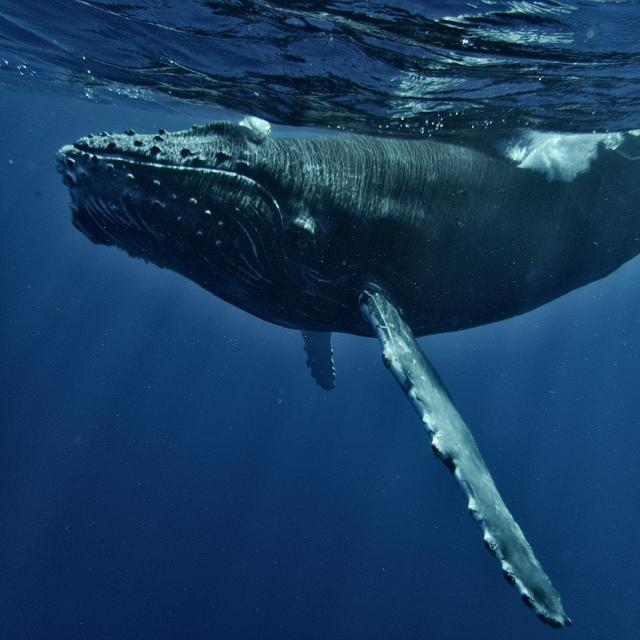jellyfish: (57, 116, 640, 627)
